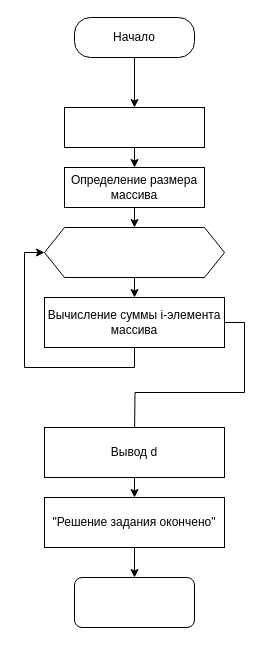
The diagram is 270 pixels wide and 645 high, and some of its shapes have lost their labels. Here are the shapes that lost their labels. From the top down, the centre of each, then its label:
point (134, 127): Задание переменных, задание массива
point (134, 252): i <= sise
point (134, 602): Конец
